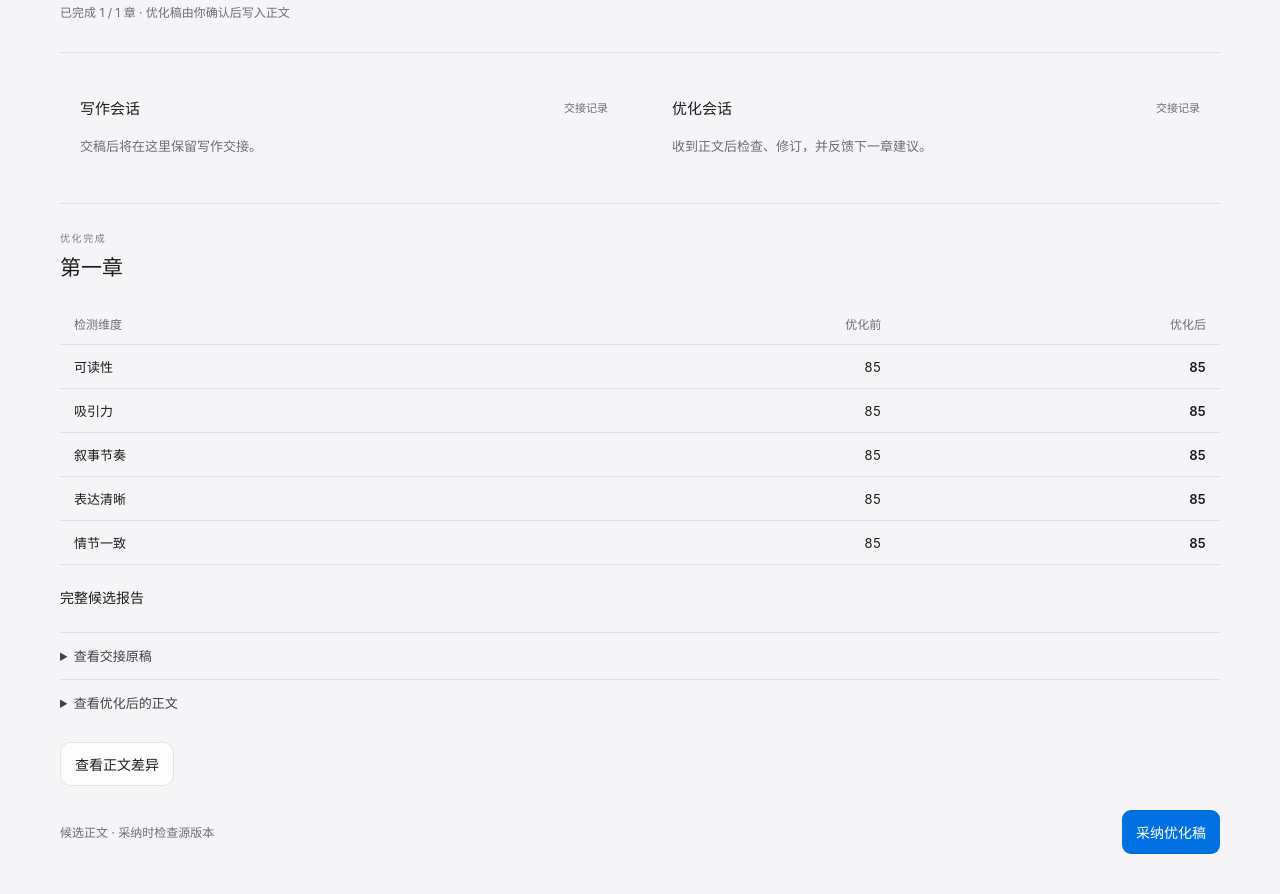
Test case: preserves the backend diagnostic id when partial acceptance fails
The image size is (1280, 894).
(page scrolled)
Click the button "查看正文差异" at (117, 764), box 60,742 -> 174,786
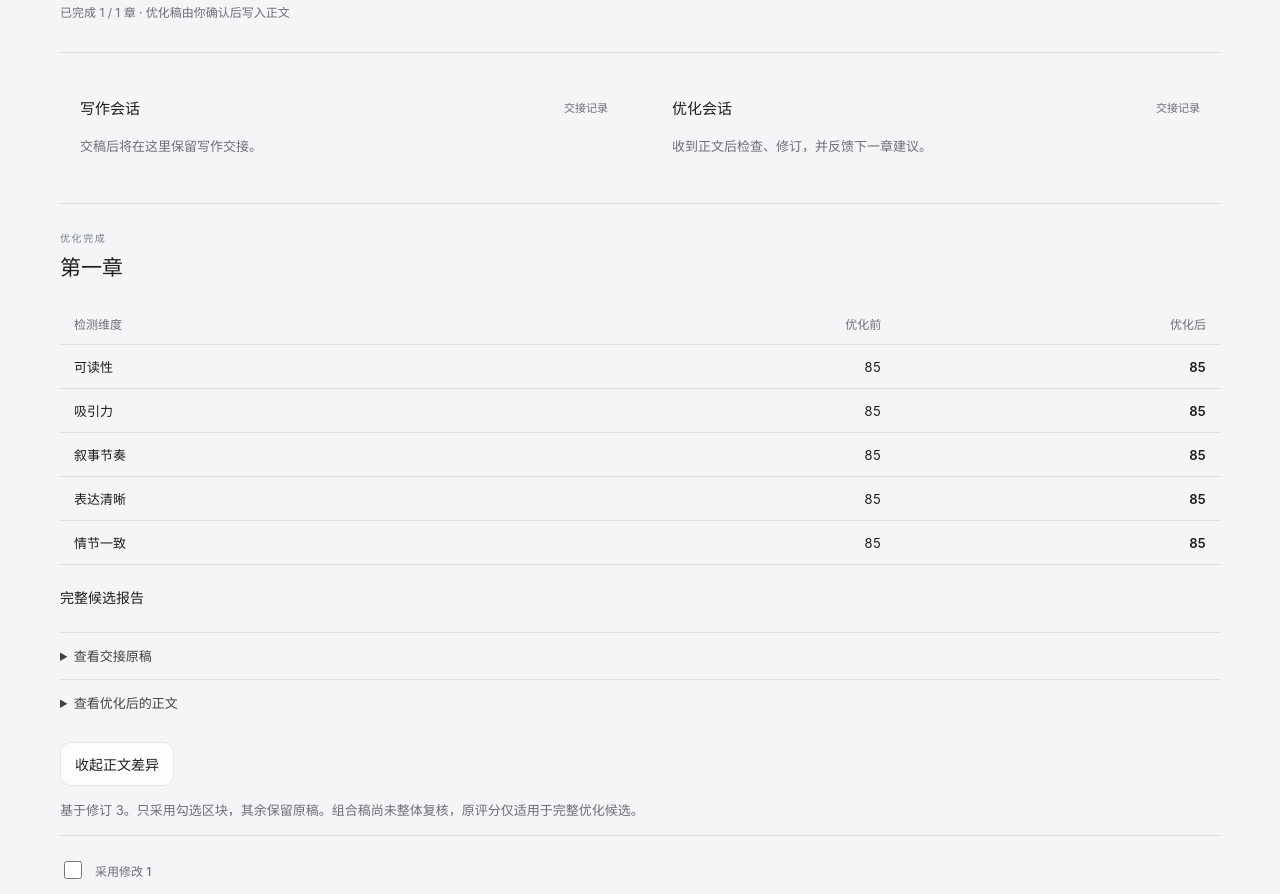
Click the checkbox labelled "采用修改 1" at (73, 870), box 64,861 -> 82,879
(page scrolled)
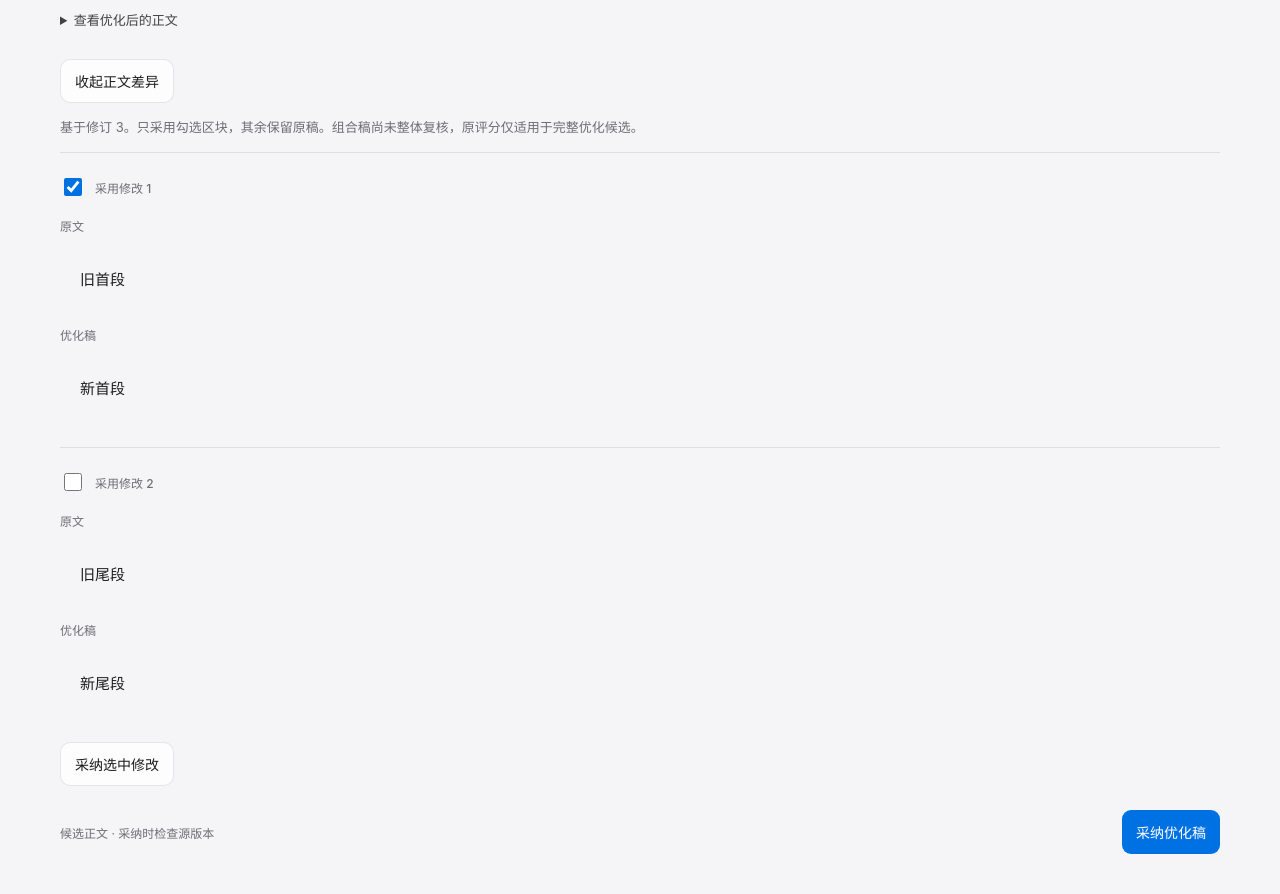
Click the button "采纳选中修改" at (117, 764), box 60,742 -> 174,786
(page scrolled)
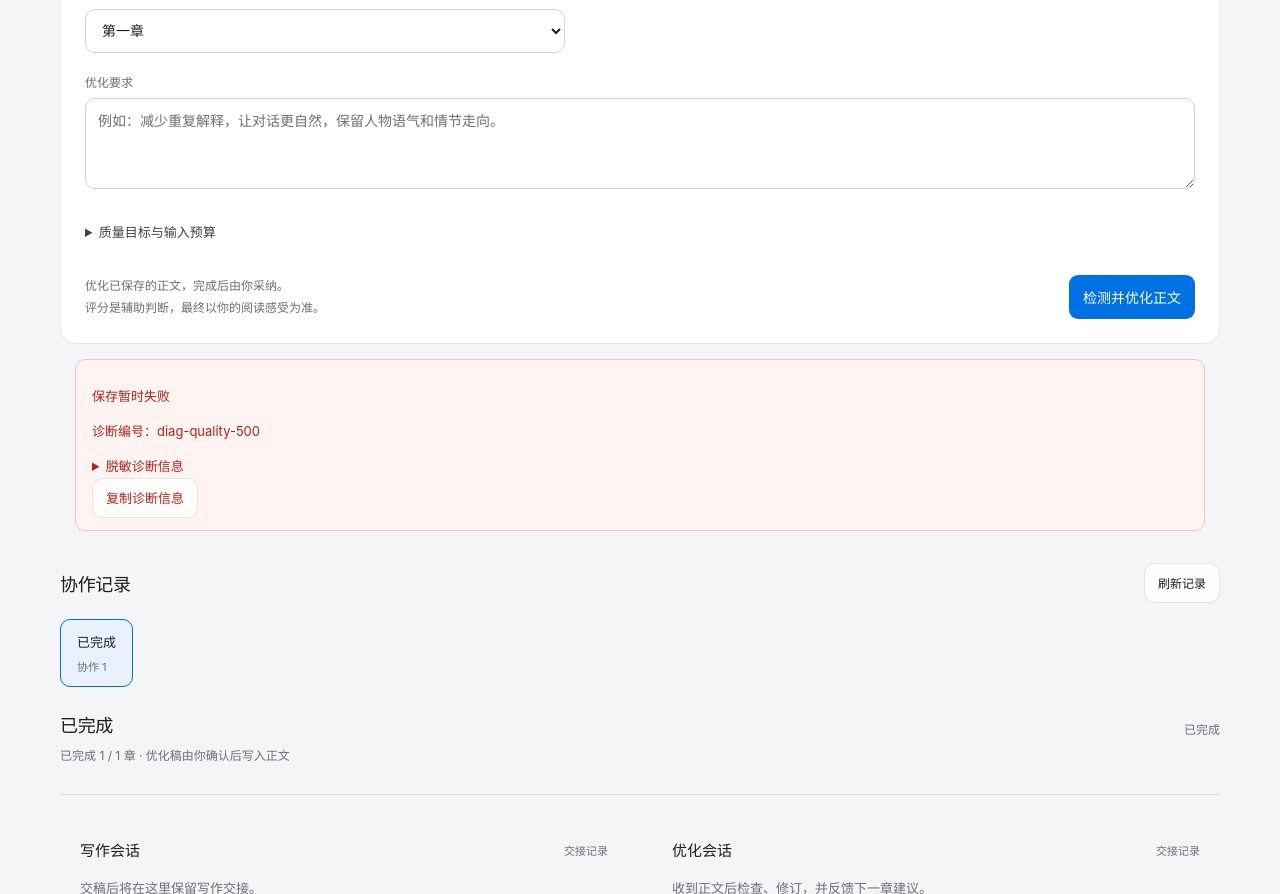
Now the message "保存暂时失败 诊断编号：diag-quality-500 脱敏诊断信息 复制诊断信息" is shown, box 75,359 -> 1205,531
